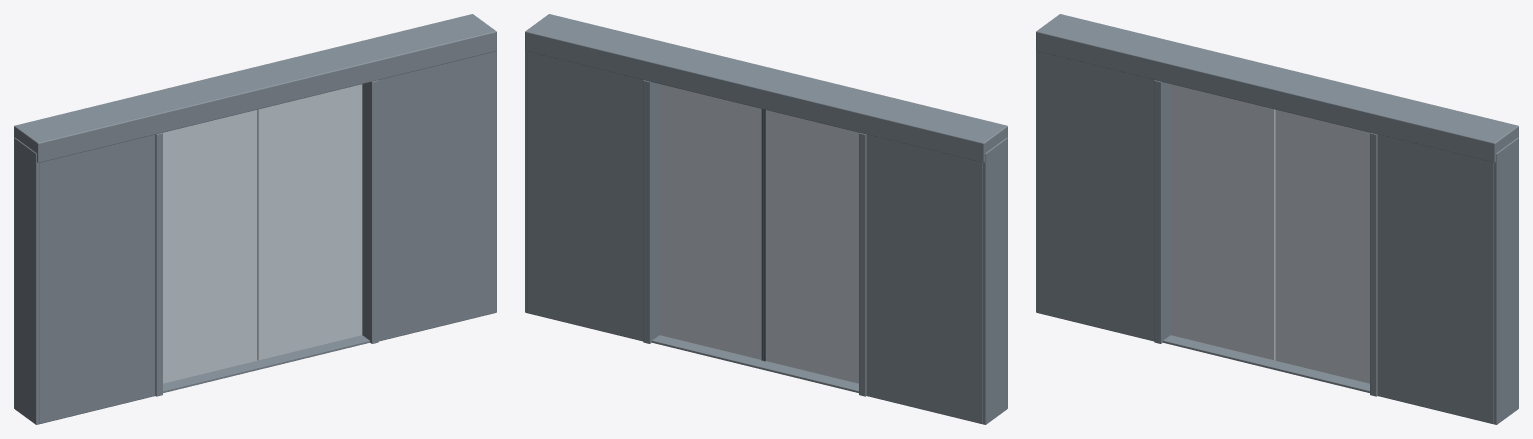
Rendered from CF_PocketDoor_240.fbx.
The picture shows the model from 3 angles, left to right: view 1: azimuth 30°, elevation 25°; view 2: azimuth 150°, elevation 25°; view 3: azimuth 330°, elevation 25°; orthographic projection.
Visible parts, largest first — view 1: Pocket_-1_-0.001, Pocket_1_-0.001, Leaf_Left.001, Leaf_Right.001, Header.001, PocketEnd_1.001, Jamb_-1.001, Jamb_1.001, Threshold.001, PocketEnd_-1.001; view 2: Pocket_-1_0.001, Pocket_1_0.001, Leaf_Left.001, Leaf_Right.001, Header.001, PocketEnd_1.001, Jamb_-1.001, Jamb_1.001, Threshold.001, PocketEnd_-1.001, Seal_1.001, Seal_-1.001; view 3: Pocket_1_-0.001, Pocket_-1_-0.001, Leaf_Right.001, Leaf_Left.001, Header.001, PocketEnd_-1.001, Jamb_1.001, Jamb_-1.001, Threshold.001, PocketEnd_1.001.
Part boxes in pixels (x1=…): Pocket_-1_-0.001: x1=378, y1=52, x2=494, y2=341; Pocket_1_-0.001: x1=39, y1=134, x2=155, y2=424; Leaf_Left.001: x1=257, y1=84, x2=362, y2=360; Leaf_Right.001: x1=163, y1=110, x2=257, y2=383; Header.001: x1=14, y1=14, x2=496, y2=162; PocketEnd_1.001: x1=14, y1=137, x2=38, y2=424; Jamb_-1.001: x1=362, y1=80, x2=378, y2=343; Jamb_1.001: x1=155, y1=133, x2=162, y2=396; Threshold.001: x1=163, y1=335, x2=369, y2=392; PocketEnd_-1.001: x1=494, y1=51, x2=496, y2=313; Pocket_-1_0.001: x1=527, y1=52, x2=643, y2=341; Pocket_1_0.001: x1=866, y1=134, x2=982, y2=424; Leaf_Left.001: x1=659, y1=84, x2=761, y2=359; Leaf_Right.001: x1=766, y1=110, x2=858, y2=383; Header.001: x1=525, y1=14, x2=1007, y2=162; PocketEnd_1.001: x1=983, y1=137, x2=1007, y2=424; Jamb_-1.001: x1=643, y1=80, x2=659, y2=343; Jamb_1.001: x1=859, y1=133, x2=866, y2=396; Threshold.001: x1=652, y1=335, x2=858, y2=392; PocketEnd_-1.001: x1=525, y1=51, x2=527, y2=313; Seal_1.001: x1=763, y1=109, x2=765, y2=361; Seal_-1.001: x1=761, y1=109, x2=763, y2=360; Pocket_1_-0.001: x1=1038, y1=52, x2=1154, y2=341; Pocket_-1_-0.001: x1=1377, y1=134, x2=1493, y2=424; Leaf_Right.001: x1=1170, y1=84, x2=1275, y2=360; Leaf_Left.001: x1=1275, y1=110, x2=1369, y2=383; Header.001: x1=1036, y1=14, x2=1518, y2=162; PocketEnd_-1.001: x1=1494, y1=137, x2=1518, y2=424; Jamb_1.001: x1=1154, y1=80, x2=1170, y2=343; Jamb_-1.001: x1=1370, y1=133, x2=1377, y2=396; Threshold.001: x1=1163, y1=335, x2=1369, y2=392; PocketEnd_1.001: x1=1036, y1=51, x2=1038, y2=313.
Bounding box in the file's own units: 526 × 308 × 48.
